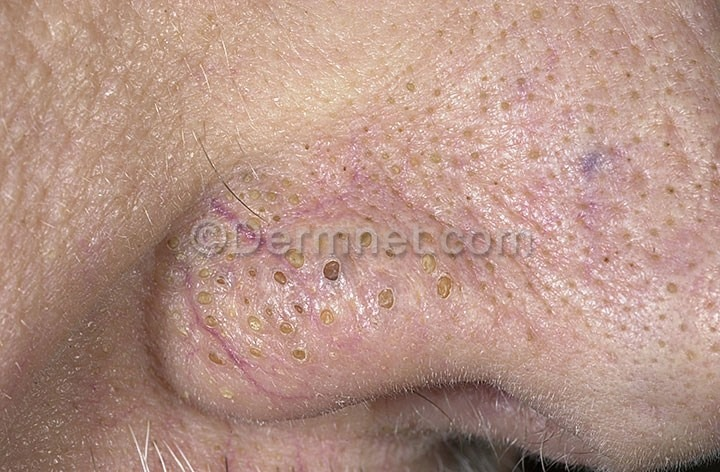Melasma: (364, 0, 569, 99)
